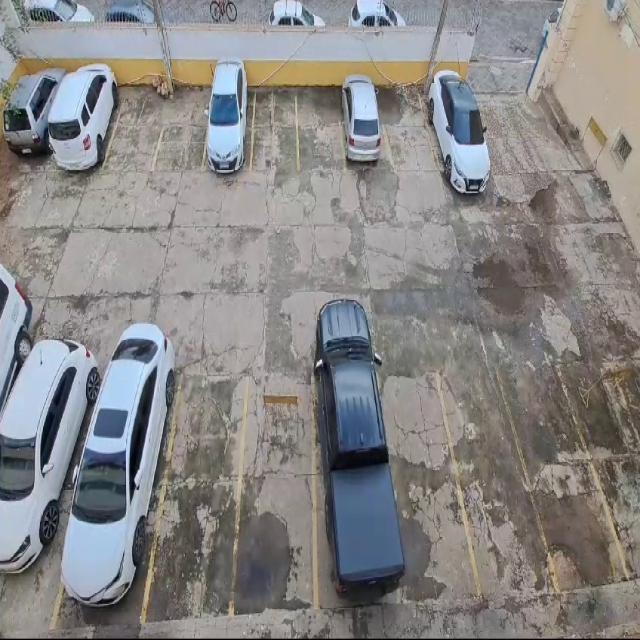empty: (497, 359, 630, 594), (436, 367, 554, 597), (143, 371, 250, 621), (384, 374, 482, 603), (232, 372, 313, 613), (377, 86, 448, 193), (151, 84, 211, 185), (105, 90, 168, 179), (296, 83, 344, 182), (251, 86, 297, 181)
notEmpty: (51, 336, 183, 625), (0, 320, 106, 629), (312, 339, 402, 608), (416, 76, 497, 199), (52, 66, 125, 185), (0, 59, 66, 173), (337, 80, 395, 174), (203, 74, 254, 175)
